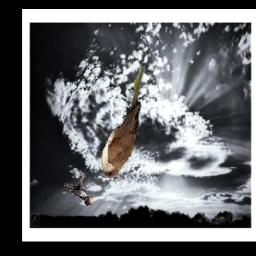Crow: (64, 176, 95, 208)
Cuckoo: (99, 65, 144, 178)
